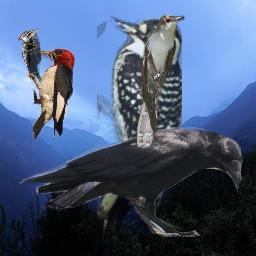Crow: (19, 127, 243, 237)
Cuckoo: (135, 13, 185, 147)
Woodpecker: (97, 15, 182, 244), (26, 48, 75, 142), (18, 28, 41, 88)
